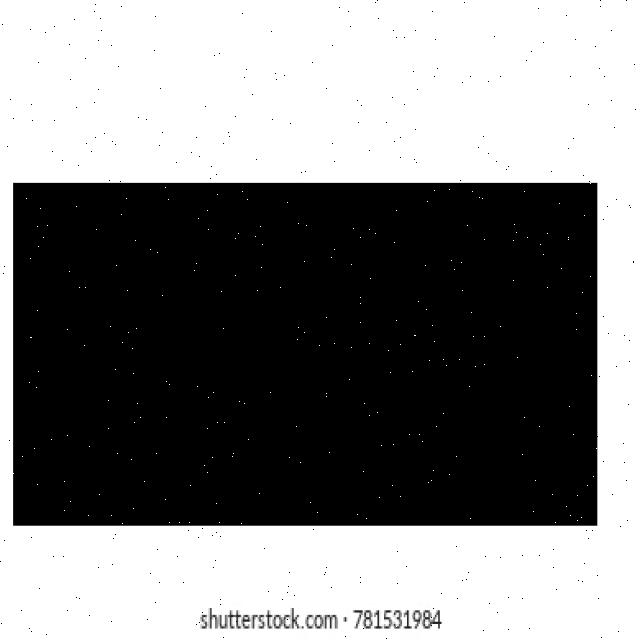Banana: (14, 183, 598, 526)
